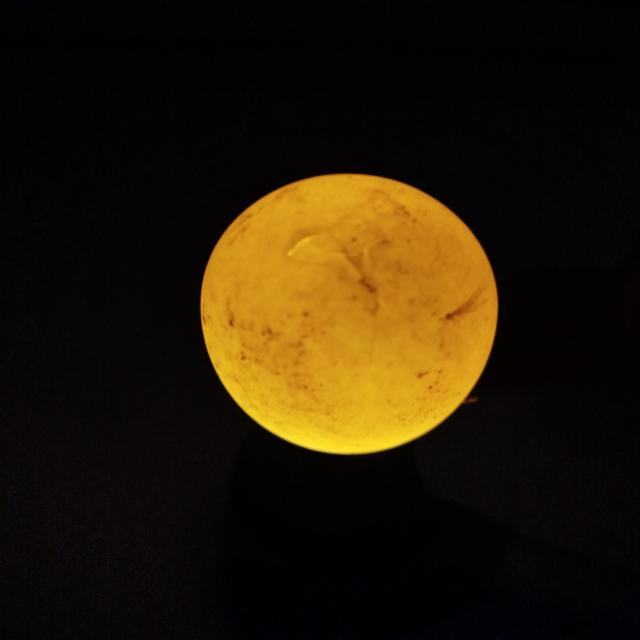Rachadura: (290, 188, 418, 296)
